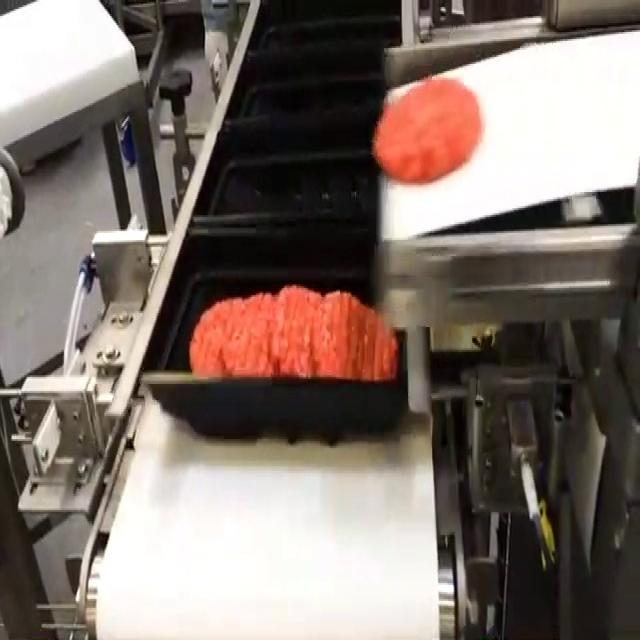4-hamburguer: (191, 284, 397, 379)
